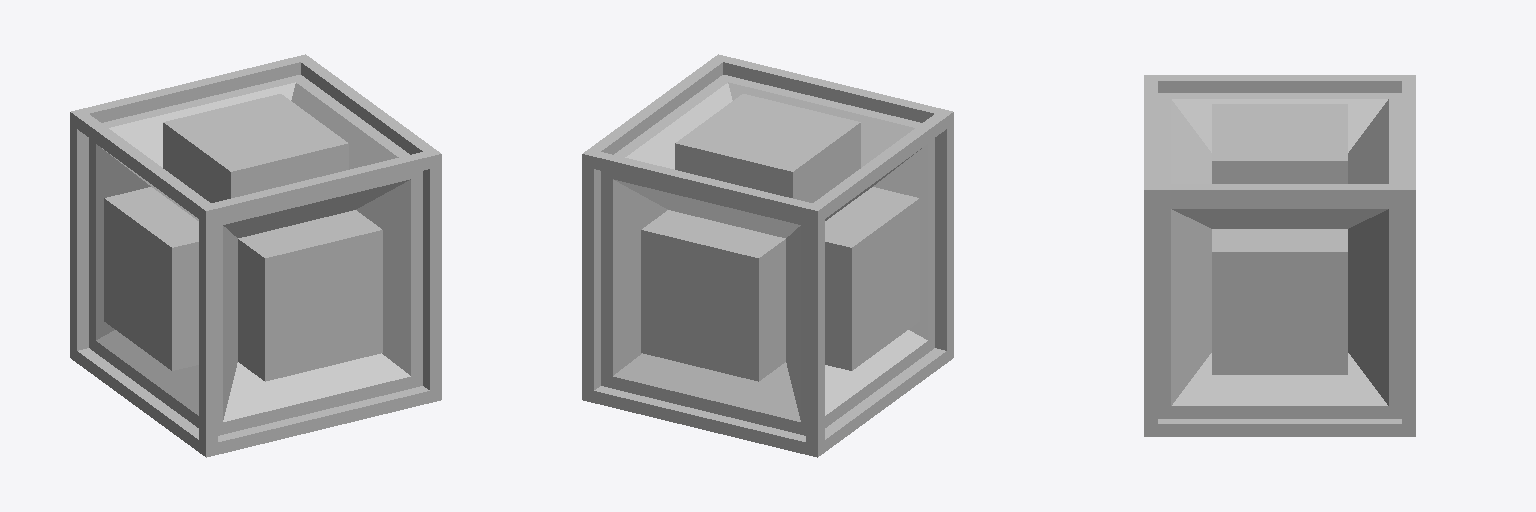
File: infinite_capacitor.obj
3 renders of one model, left to right at view 1: azimuth 30°, elevation 25°; view 2: azimuth 150°, elevation 25°; view 3: azimuth 270°, elevation 25°, orthographic.
Visible parts, largest first — view 1: Cube.002; view 2: Cube.002; view 3: Cube.002.
Boxes of the visible parts, x1=… form: Cube.002: x1=70, y1=54, x2=441, y2=457; Cube.002: x1=582, y1=54, x2=953, y2=457; Cube.002: x1=1144, y1=75, x2=1415, y2=436.
Bounding box in the file's own units: 1 × 1 × 1.